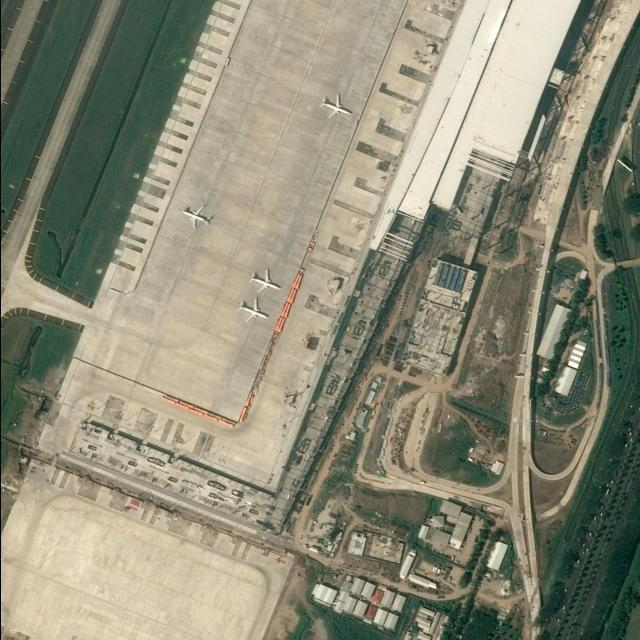Aircraft: (248, 268, 280, 294), (321, 93, 353, 119), (182, 204, 212, 228), (238, 299, 268, 323)
